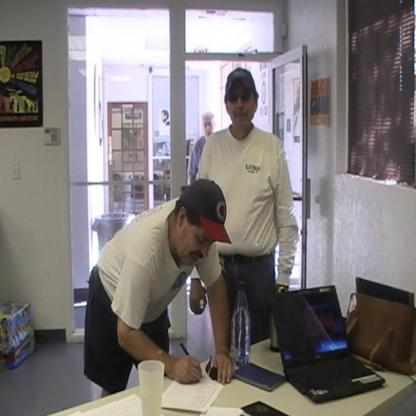board: (270, 287, 384, 404), (230, 282, 251, 368), (137, 361, 168, 416)
